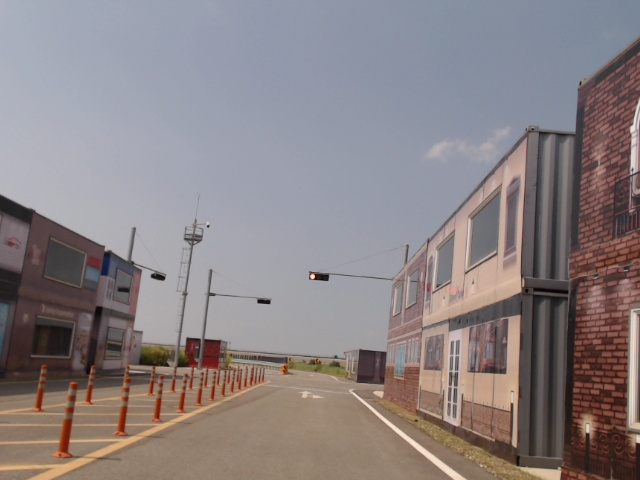red_3: (308, 273, 329, 280)
